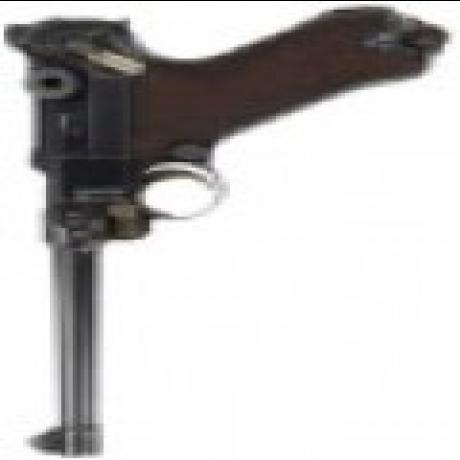weapon: (3, 0, 460, 452)
